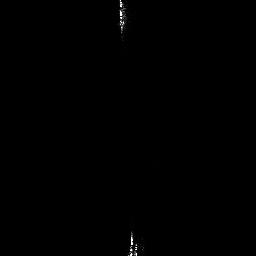ship: (127, 230, 145, 256), (117, 1, 126, 37)
